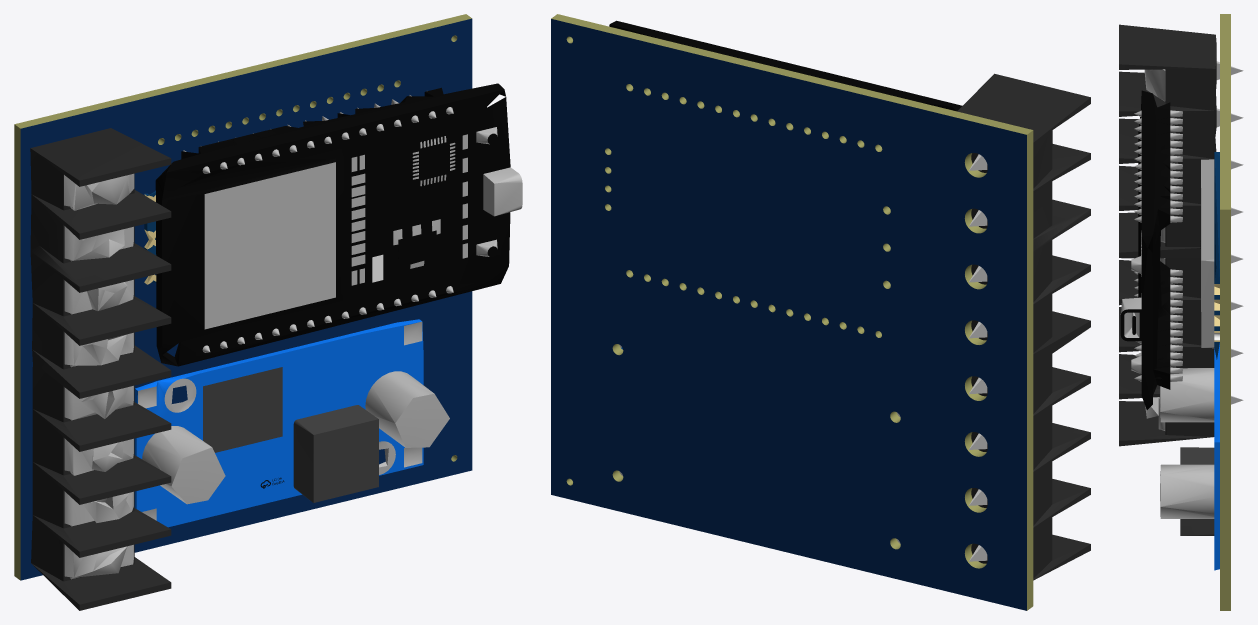
Rendered from 3D_PCB1_2026-08-03.obj.
3 renders of one model, left to right at view 1: azimuth 30°, elevation 25°; view 2: azimuth 150°, elevation 25°; view 3: azimuth 270°, elevation 25°, orthographic. The views are drawn at different scales.
Bounding box in the file's own units: 67.97 × 64.97 × 18.3.
